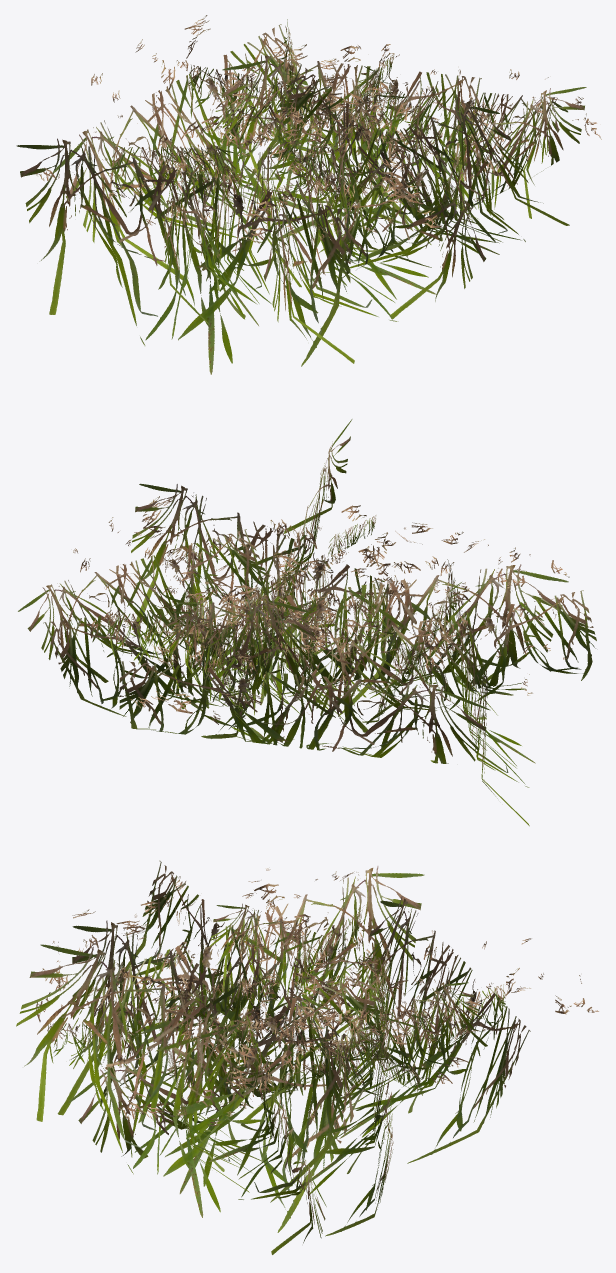
Rendered from BIO_VEG_GrassTest.fbx.
3 views of the same model, one above another, from view 1: azimuth 30°, elevation 25°; view 2: azimuth 150°, elevation 25°; view 3: azimuth 270°, elevation 25° (orthographic). The views are drawn at different scales.
Visible parts, largest first — view 1: BIO_VEG_GrassTest; view 2: BIO_VEG_GrassTest; view 3: BIO_VEG_GrassTest.
Boxes of the visible parts, box(x1,y1,x2,y2) form: BIO_VEG_GrassTest: box(16, 15, 601, 374); BIO_VEG_GrassTest: box(18, 419, 596, 826); BIO_VEG_GrassTest: box(16, 860, 598, 1254).
Bounding box in the file's own units: 123 × 57.25 × 110.
